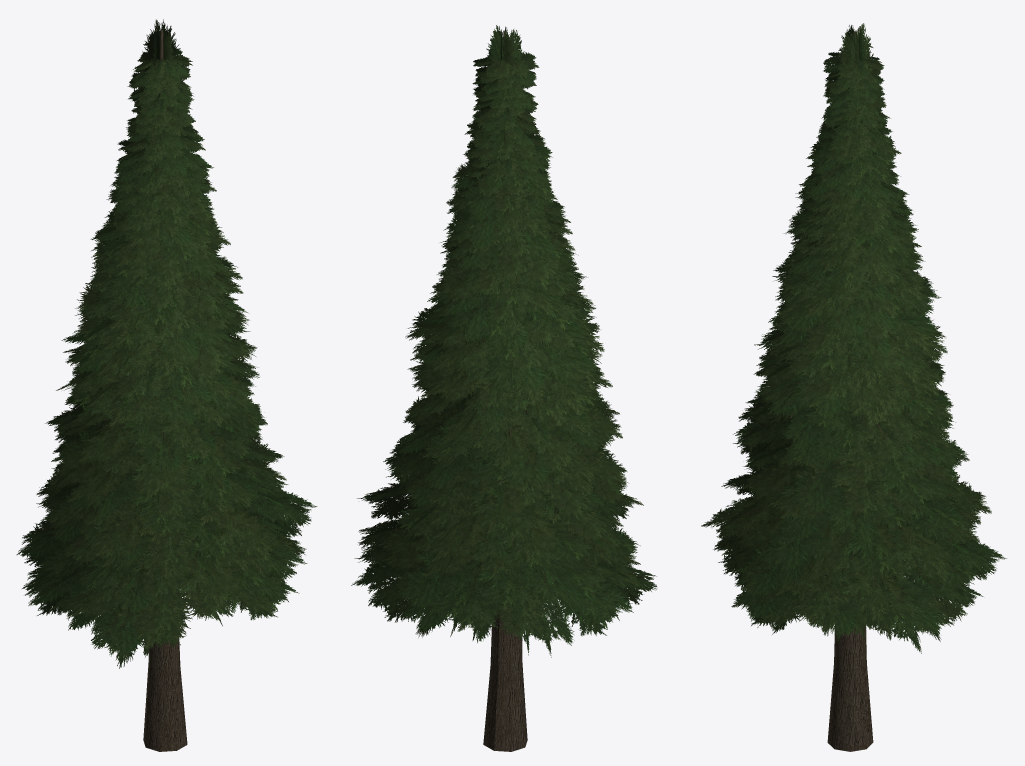
The model's file is fir_a-BmBfNaEv.glb.
3 renders of one model, left to right at view 1: azimuth 30°, elevation 25°; view 2: azimuth 150°, elevation 25°; view 3: azimuth 270°, elevation 25°, orthographic.
Visible parts, largest first — view 1: leaves, bark; view 2: leaves, bark; view 3: leaves, bark.
Part boxes in pixels (bbox=[...]): leaves: bbox=[16, 19, 317, 668]; bark: bbox=[72, 30, 216, 751]; leaves: bbox=[351, 25, 656, 657]; bark: bbox=[427, 31, 582, 751]; leaves: bbox=[701, 23, 1006, 653]; bark: bbox=[756, 31, 923, 751].
Bounding box in the file's own units: 7.26 × 18.21 × 7.28.
2 materials, 2 textured.
